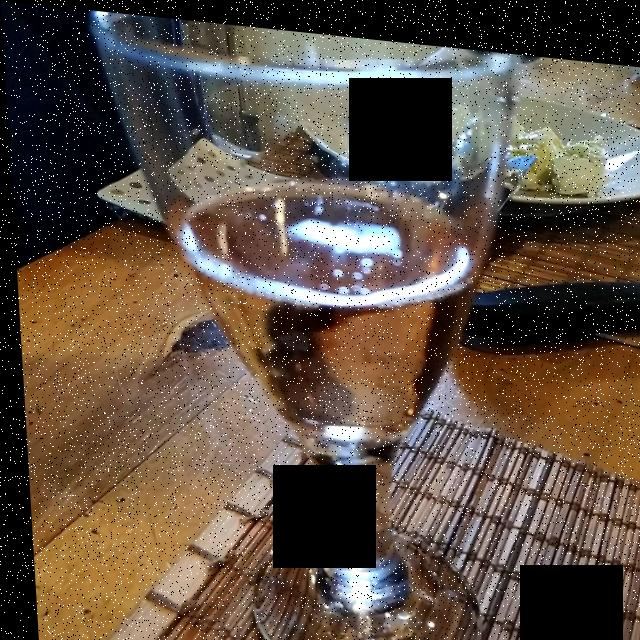wine-rose: (182, 153, 478, 421)
